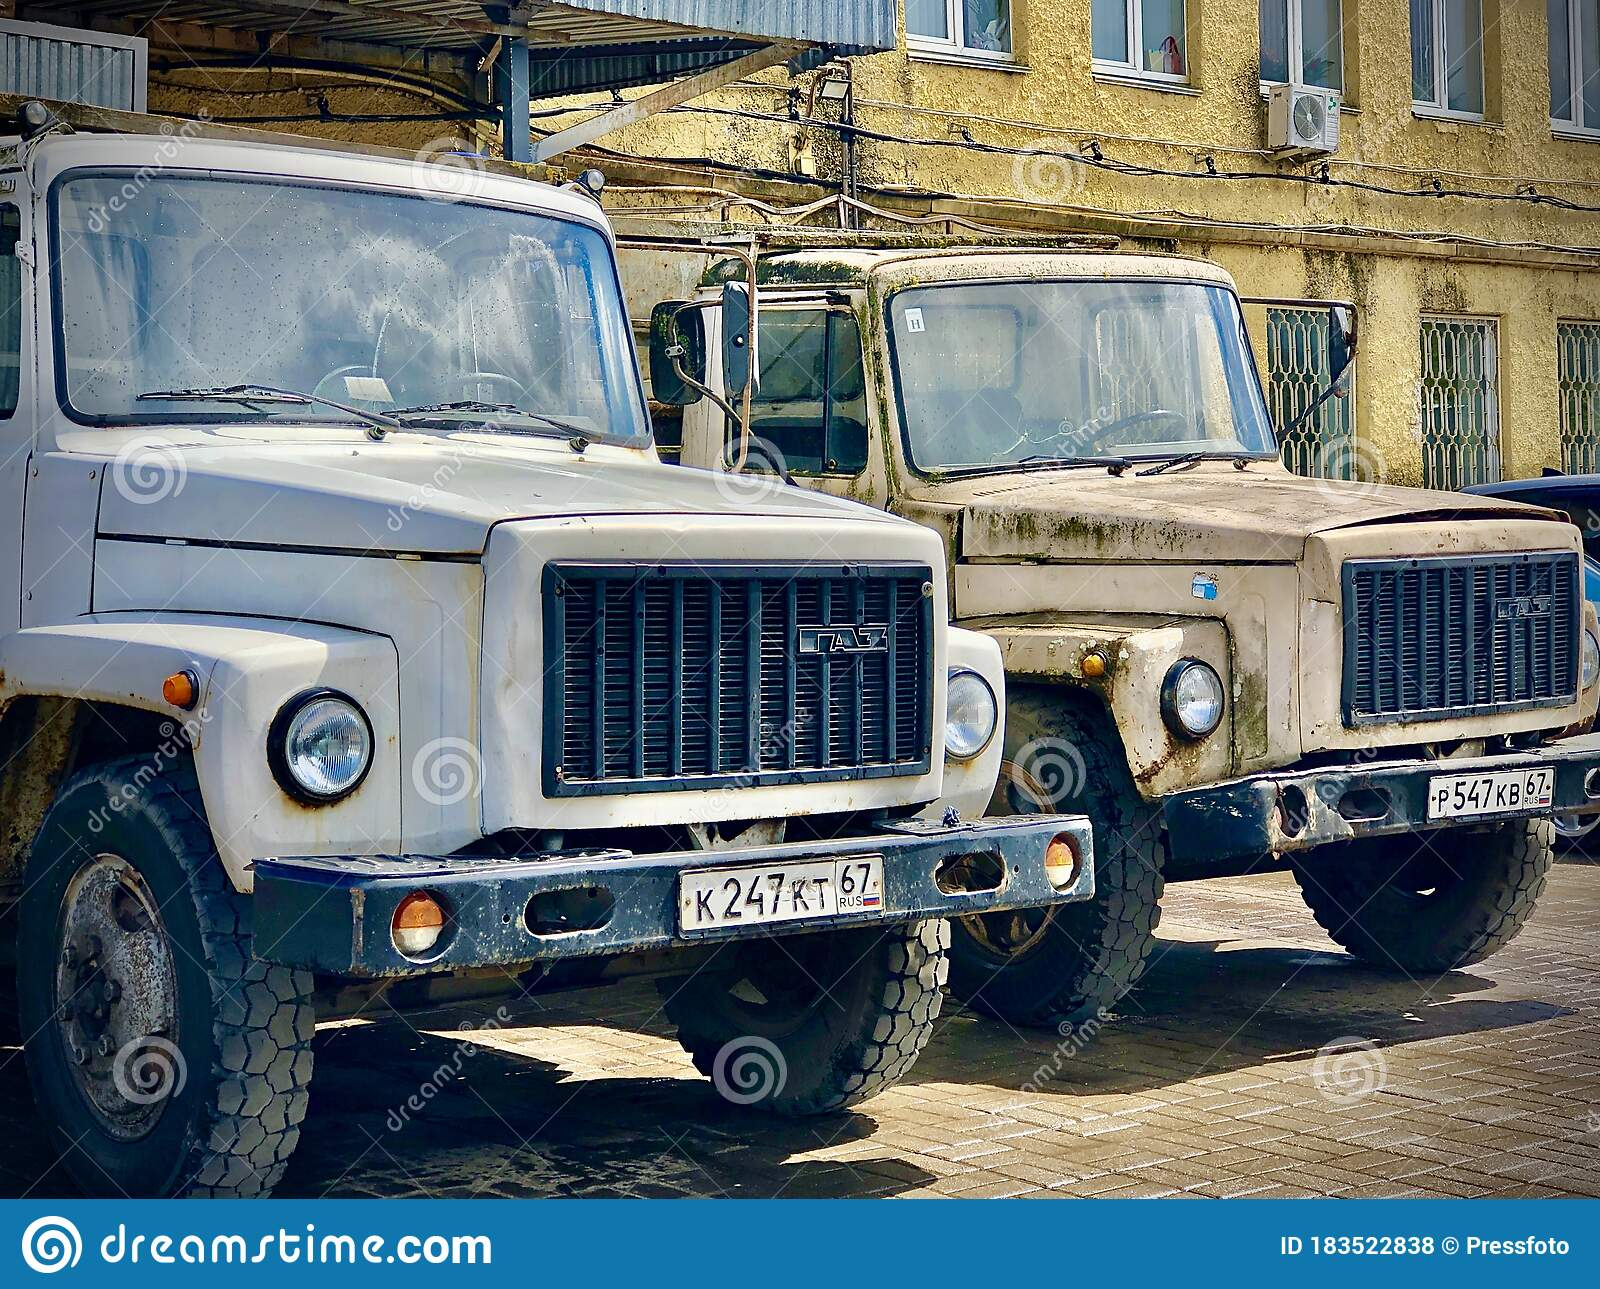plate: (668, 846, 898, 950), (1418, 761, 1567, 829)
truck: (1, 124, 1109, 1199), (627, 233, 1599, 1046)
